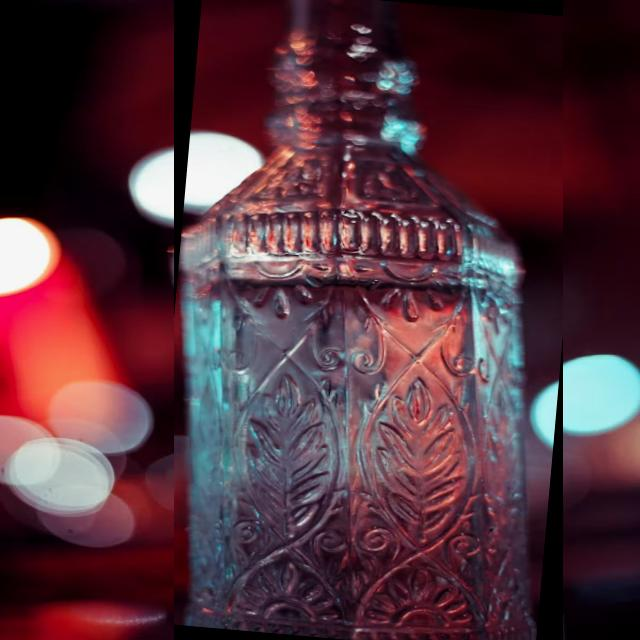Bottle: (174, 0, 563, 639)
